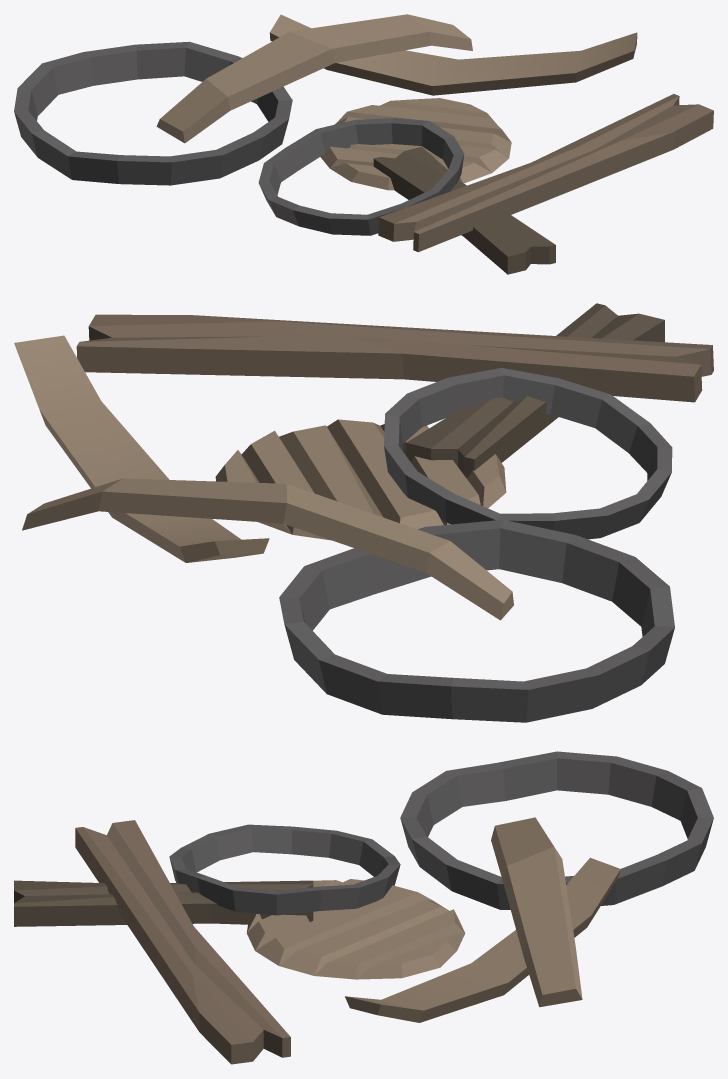
Rendered from SM_Prop_Barrel_Broken_02.glb.
3 renders of one model, top to bottom at view 1: azimuth 30°, elevation 25°; view 2: azimuth 150°, elevation 25°; view 3: azimuth 270°, elevation 25°, orthographic. The views are drawn at different scales.
Visible parts, largest first — view 1: SM_Prop_Barrel_Broken_02; view 2: SM_Prop_Barrel_Broken_02; view 3: SM_Prop_Barrel_Broken_02.
Part boxes in pixels (x1=…): SM_Prop_Barrel_Broken_02: x1=14, y1=14, x2=713, y2=274; SM_Prop_Barrel_Broken_02: x1=14, y1=303, x2=713, y2=722; SM_Prop_Barrel_Broken_02: x1=14, y1=751, x2=713, y2=1064.
Bounding box in the file's own units: 0.018 × 0.0023 × 0.0182.
1 material, 1 textured.
